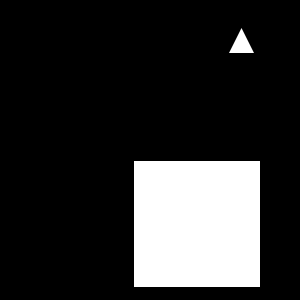circle: (134, 161, 260, 287)
triangle: (229, 28, 254, 53)
